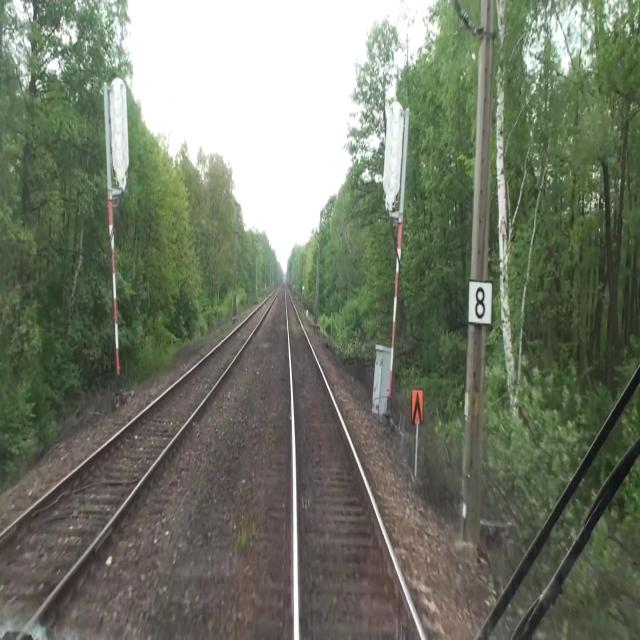rail-track: (0, 290, 277, 639), (286, 289, 421, 639)
